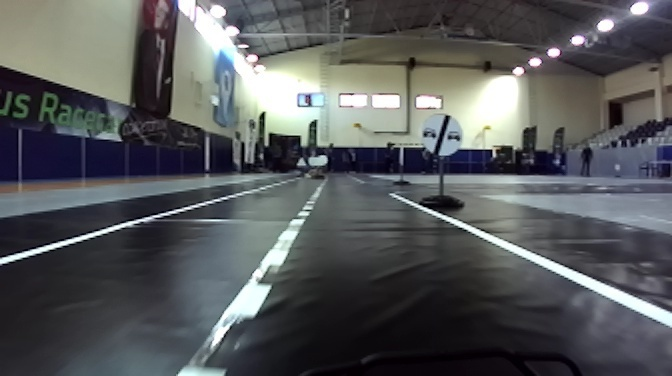sollama_serbest: (421, 114, 463, 157)
